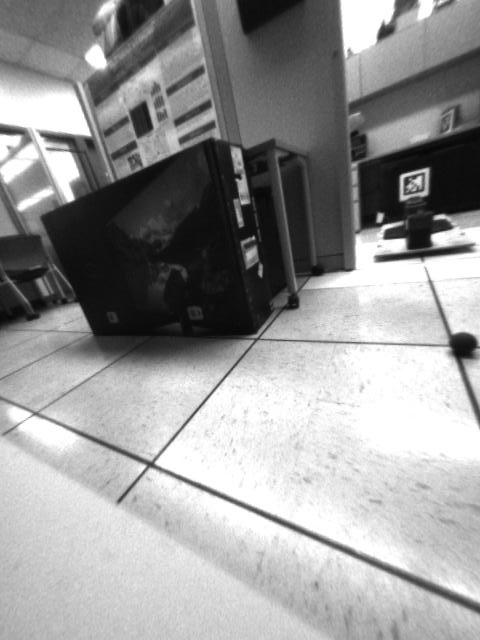dogtoy: (442, 321, 480, 367)
